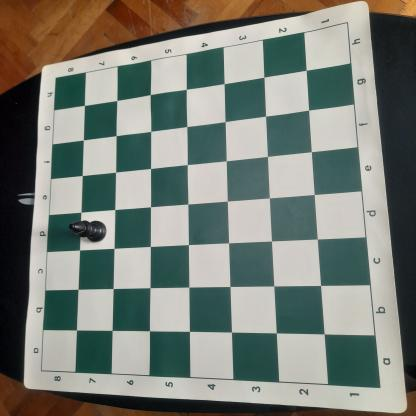black-bishop: (68, 219, 107, 243)
